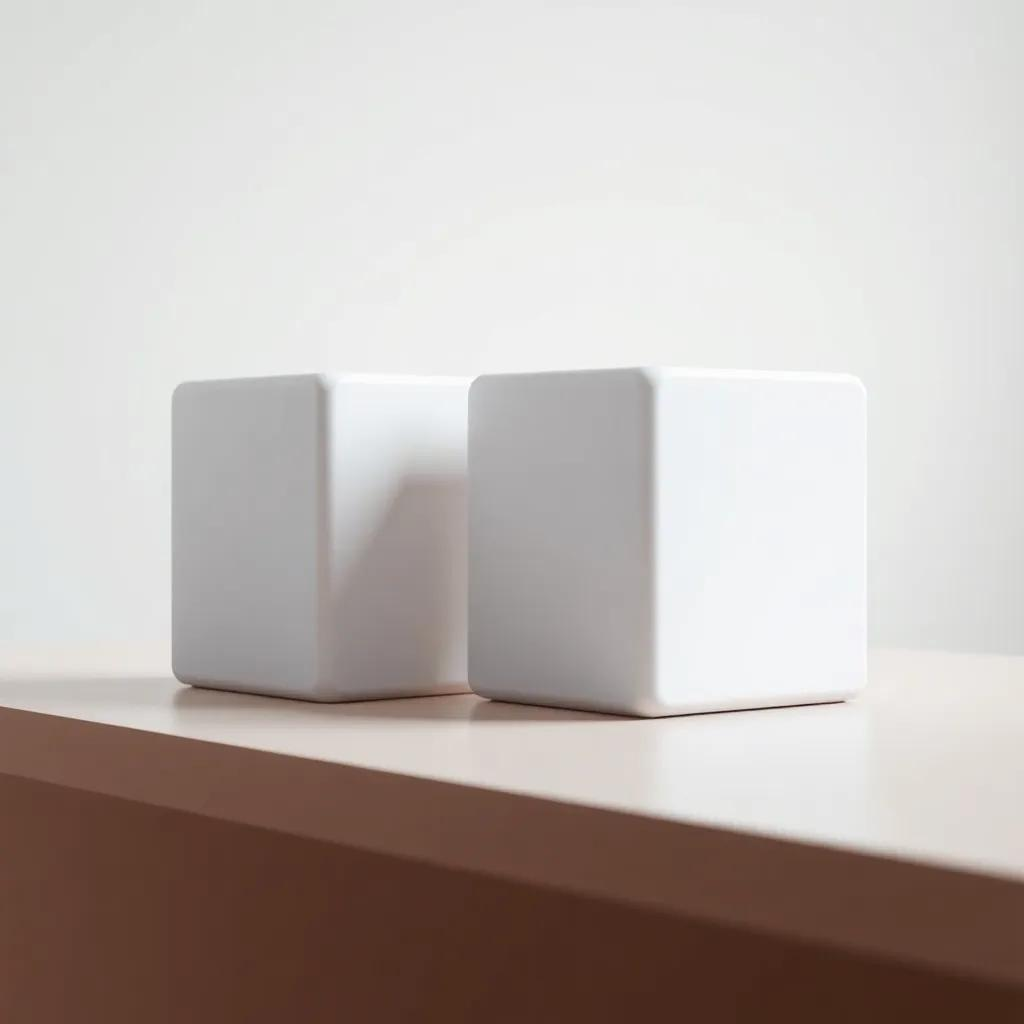cube: (465, 363, 868, 717), (169, 369, 474, 703)
